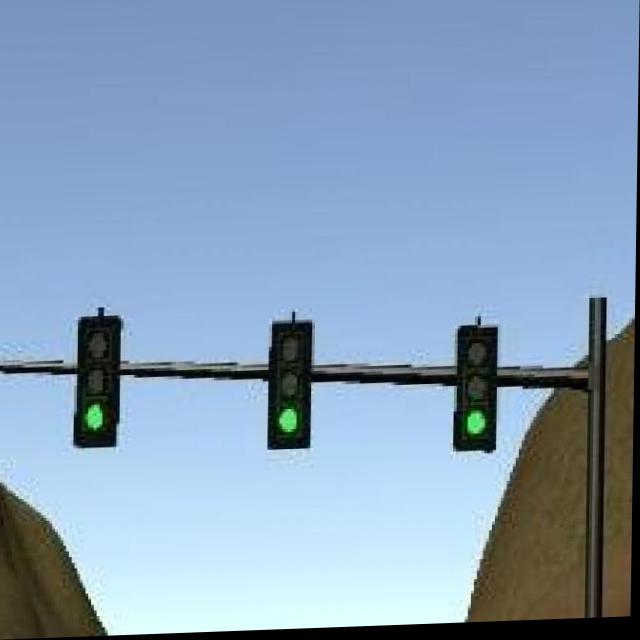green light: (272, 322, 316, 451), (78, 313, 119, 449), (458, 331, 499, 459)
